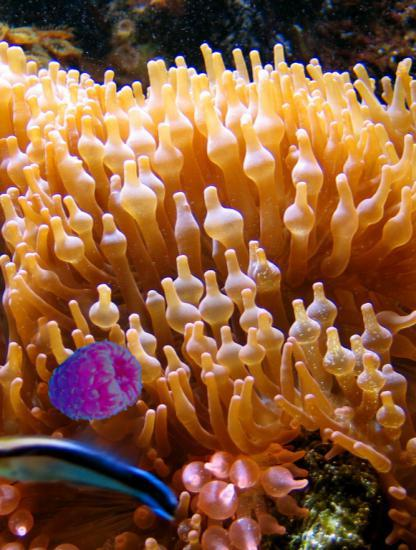Raspberry: (49, 336, 146, 433)
